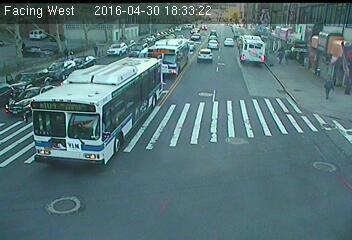neg: (38, 88, 87, 154), (195, 38, 223, 75), (305, 149, 332, 185), (160, 125, 178, 150), (58, 192, 73, 212), (220, 129, 235, 149), (309, 39, 322, 57), (117, 42, 130, 59), (17, 40, 29, 55), (4, 72, 15, 88)
pos: (319, 78, 336, 100), (277, 52, 287, 66), (278, 42, 286, 54)
